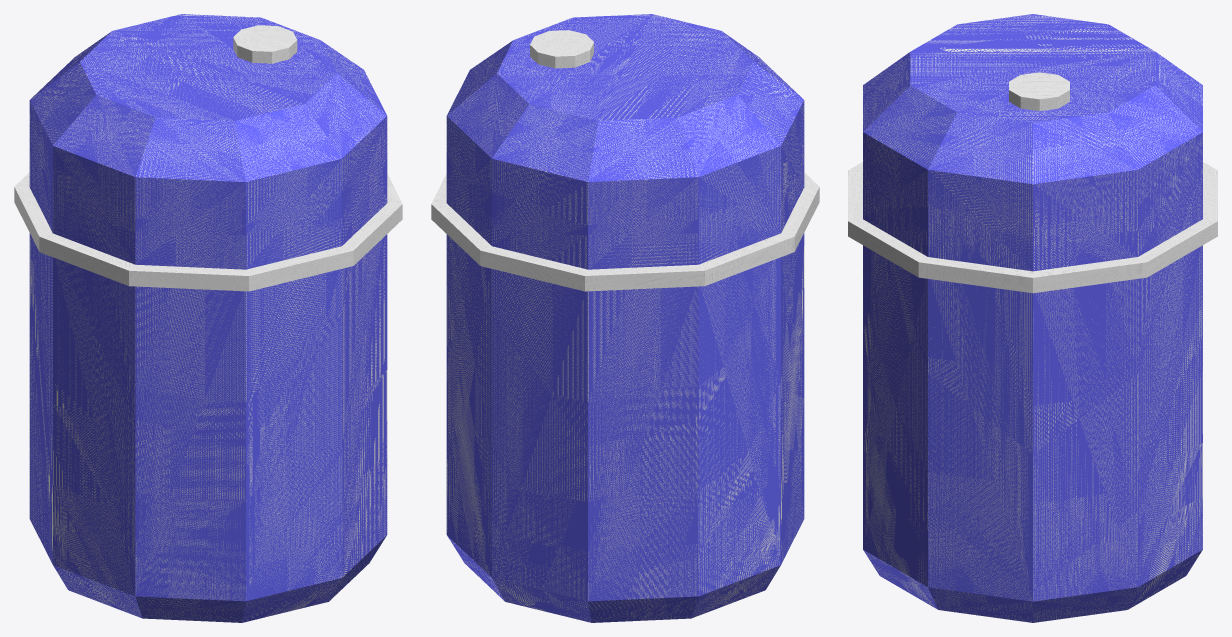
Rendered from scifi_cannister_blue_01.fbx.
3 views of the same model, side by side, from view 1: azimuth 30°, elevation 25°; view 2: azimuth 150°, elevation 25°; view 3: azimuth 270°, elevation 25° (orthographic).
Visible parts, largest first — view 1: Model; view 2: Model; view 3: Model.
Part boxes in pixels (x1=…): Model: x1=14, y1=14, x2=402, y2=622; Model: x1=431, y1=14, x2=819, y2=622; Model: x1=848, y1=14, x2=1217, y2=622.
Size of the model in its own units: 317 by 448 by 301.
